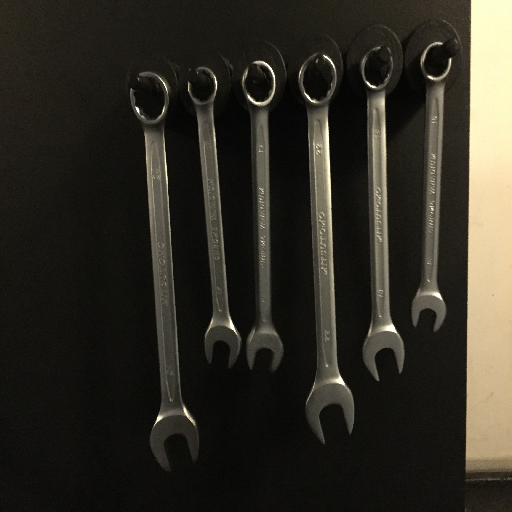bottom: (303, 379, 360, 447), (146, 413, 206, 474), (359, 326, 408, 383), (242, 326, 285, 375), (202, 322, 243, 369), (409, 290, 448, 336)
top: (126, 70, 170, 127), (295, 52, 339, 109), (237, 56, 279, 110), (357, 43, 397, 92), (417, 38, 458, 82), (181, 64, 221, 106)
